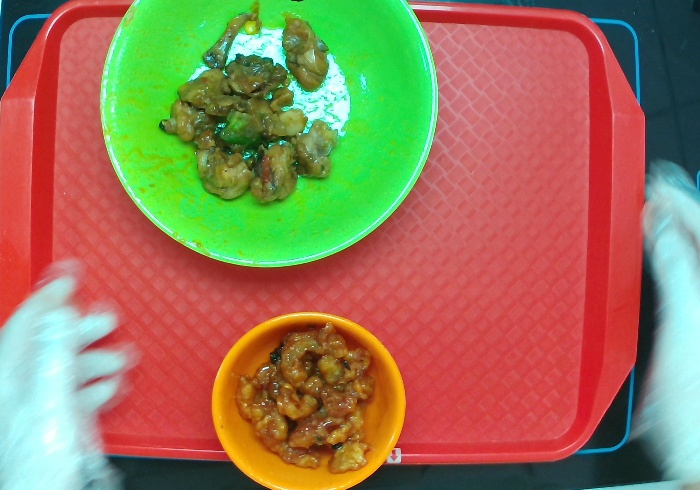YKMZ-Ju_Se_Yuan_Wan: (213, 307, 418, 490)
YKMZ-Lv_Se_Tang_Wan: (91, 1, 450, 278)
